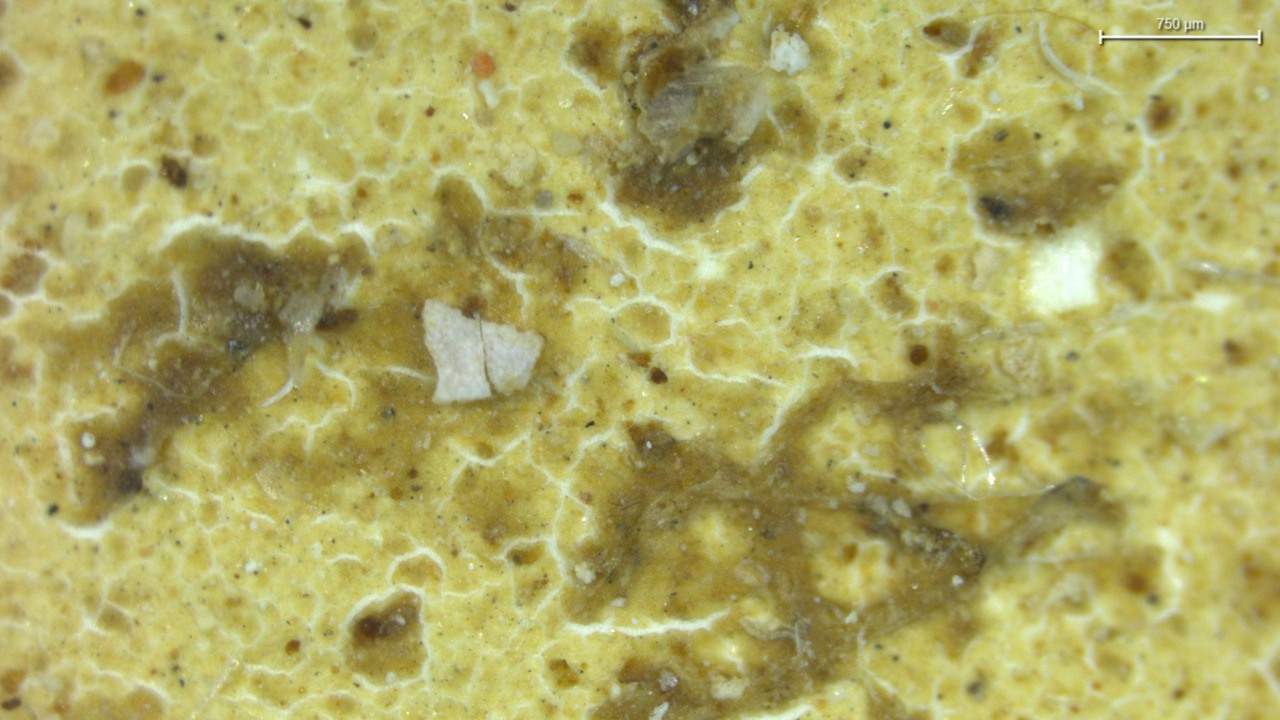microplastic_fragment: (421, 300, 491, 403), (482, 322, 542, 394)
